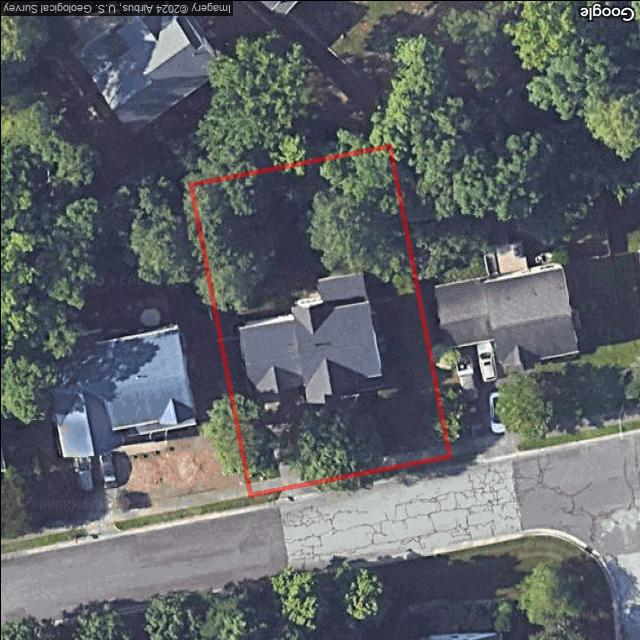Driveway: (260, 389, 309, 490)
Extra-Driveway: (274, 483, 316, 502)
Extra-Lawn: (308, 457, 451, 491), (249, 490, 283, 506)
House: (237, 270, 387, 404)
Lawn: (188, 143, 449, 494)
Sidewalk: (306, 445, 448, 483), (246, 476, 280, 496)
